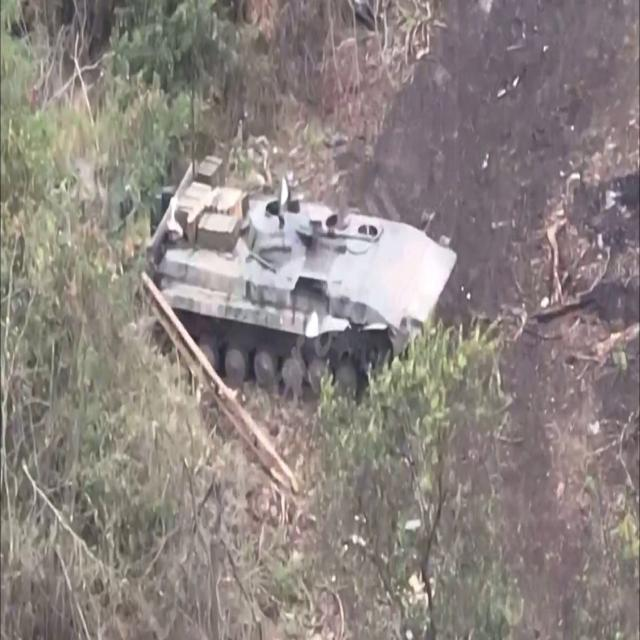AIFV: (143, 155, 459, 418)
